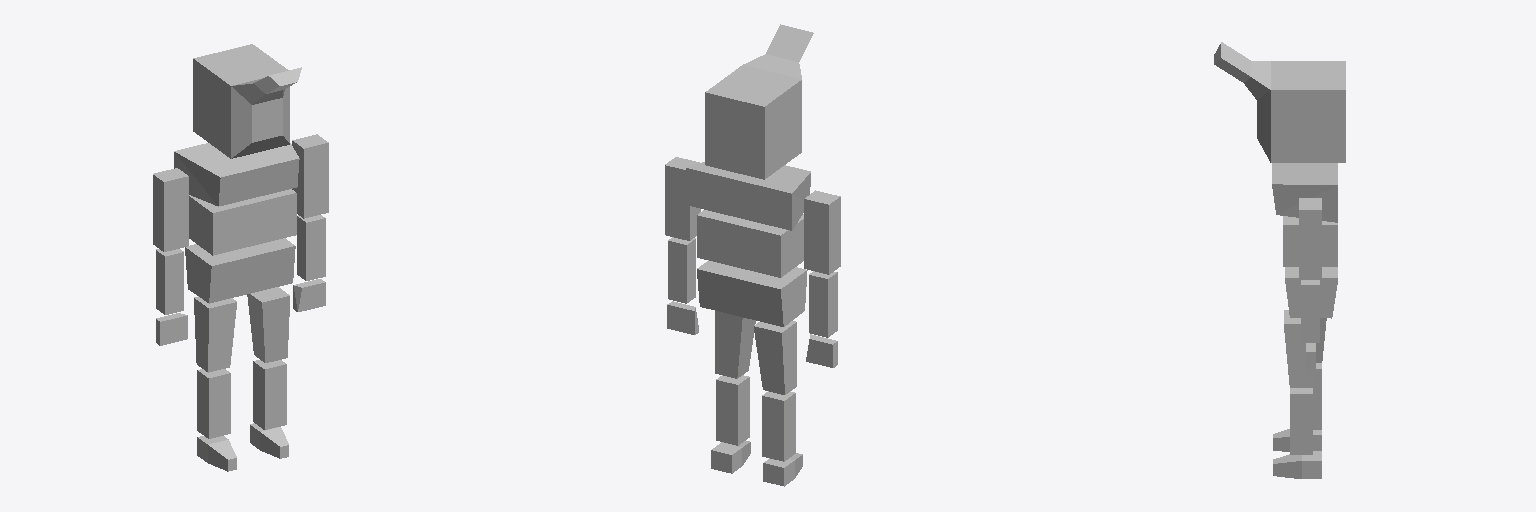
The model's file is person.obj.
The picture shows the model from 3 angles: view 1: azimuth 30°, elevation 25°; view 2: azimuth 150°, elevation 25°; view 3: azimuth 270°, elevation 25°; orthographic projection.
Parts seen in each view (by area): view 1: Cube; view 2: Cube; view 3: Cube.
Part boxes in pixels (bbox=[...]): Cube: bbox=[153, 44, 328, 471]; Cube: bbox=[665, 24, 840, 486]; Cube: bbox=[1214, 42, 1345, 478].
Size of the model in its own units: 4.76 by 11.29 by 3.29.